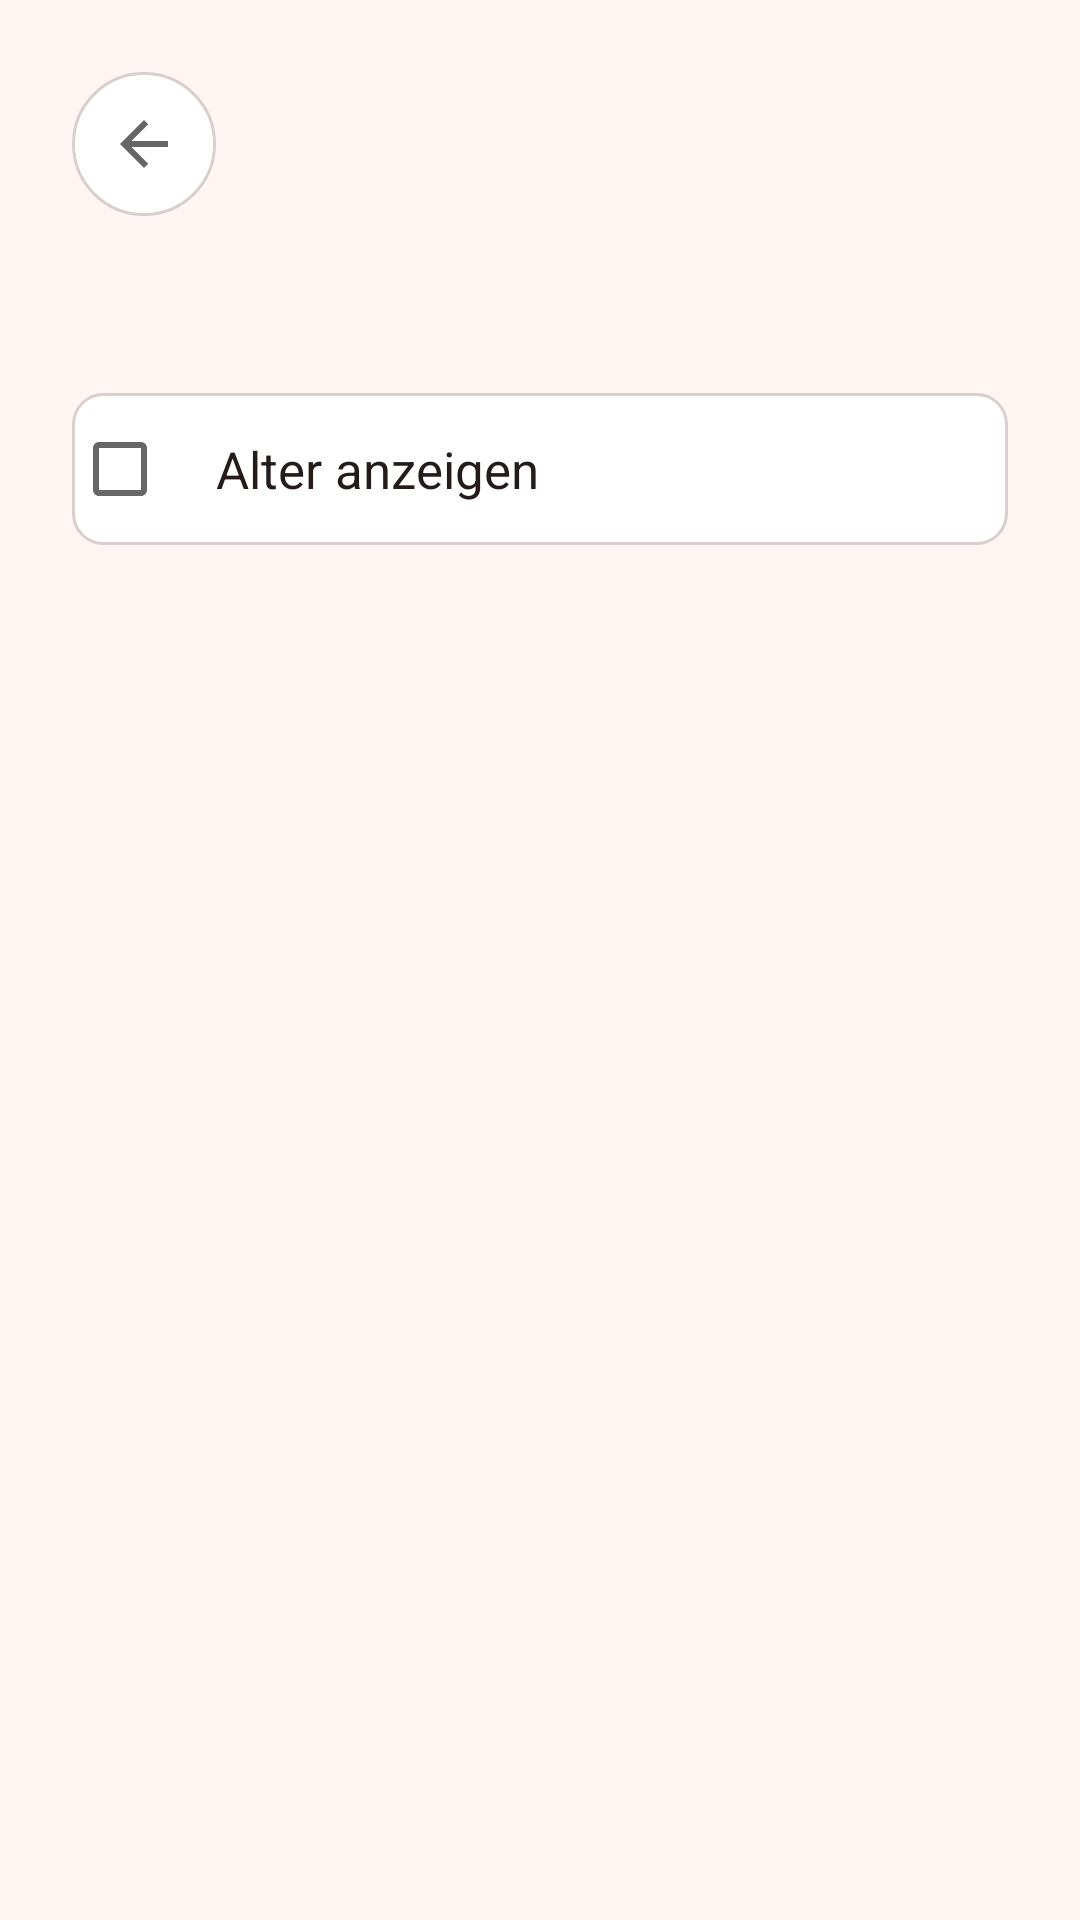

Where to tap for icons on this 1080×1920 app screen, as (x=x, y=y):
Zurück: (x=144, y=144)
